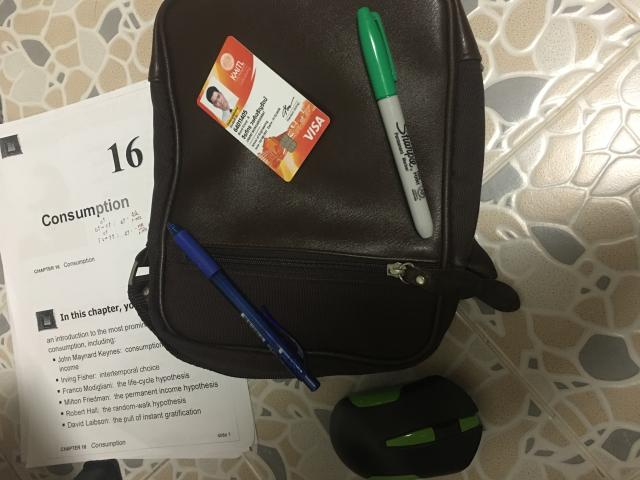Mouse: (330, 376, 482, 479)
Pen: (168, 222, 320, 391), (358, 8, 434, 239)
paper: (0, 63, 255, 466)
